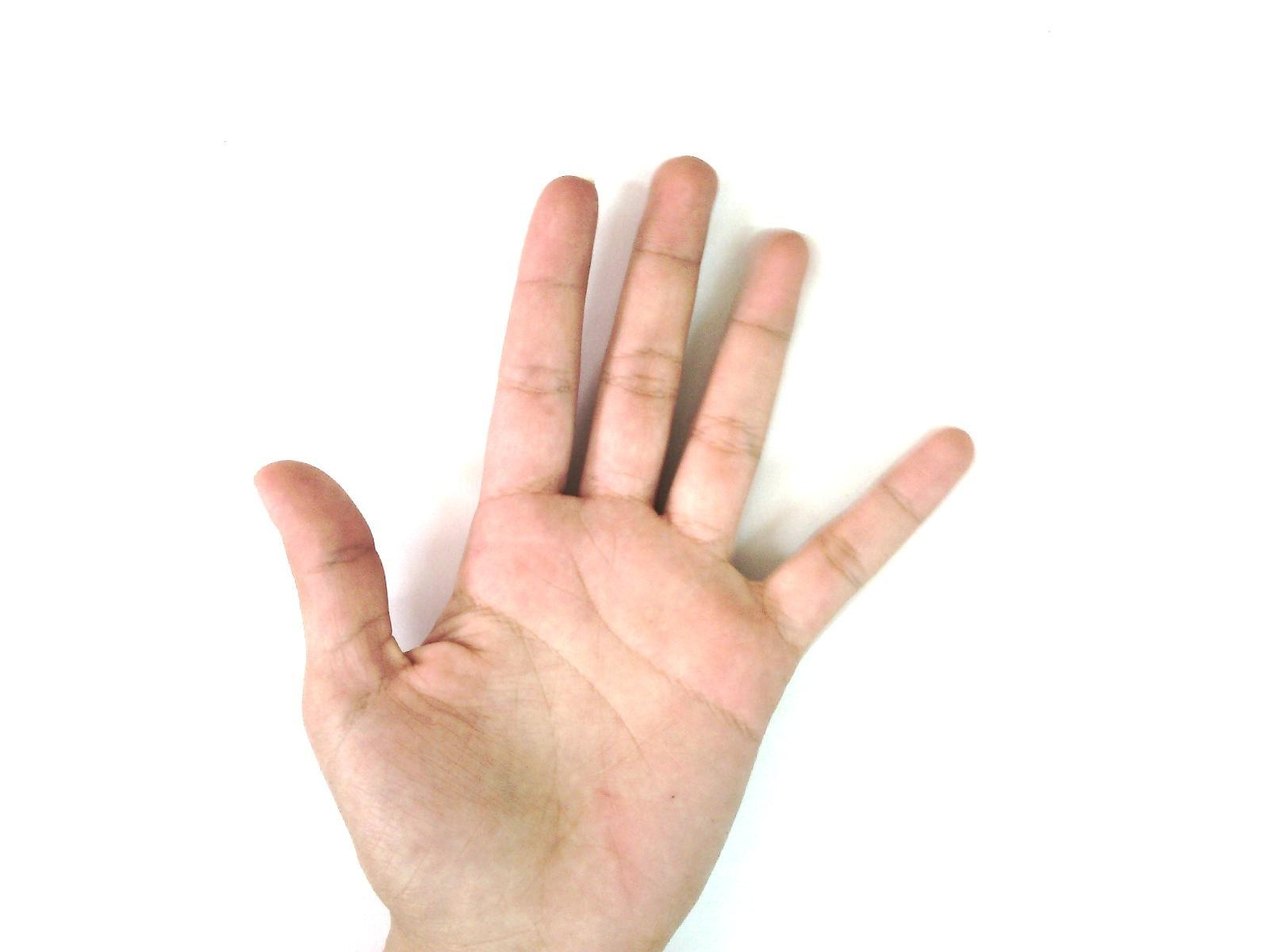open_palm: (252, 155, 978, 951)
